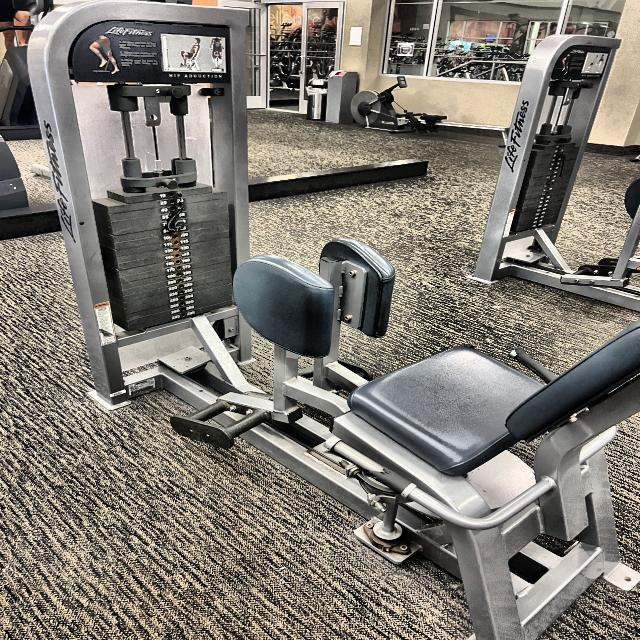hip_adduction_machine: (178, 210, 640, 603), (185, 221, 442, 375), (86, 25, 230, 81), (165, 73, 228, 80)
